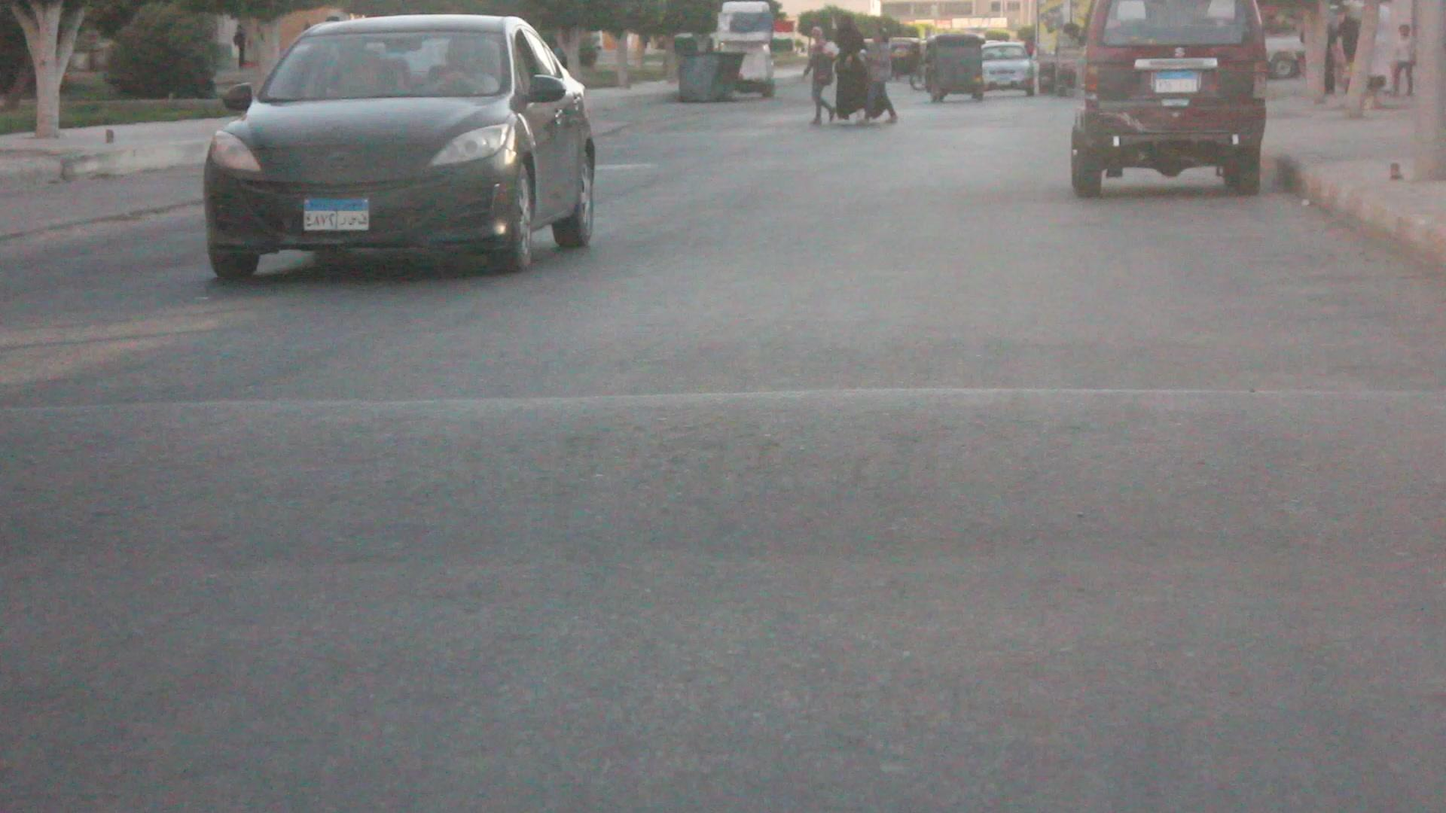Bump: (9, 391, 1446, 600)
